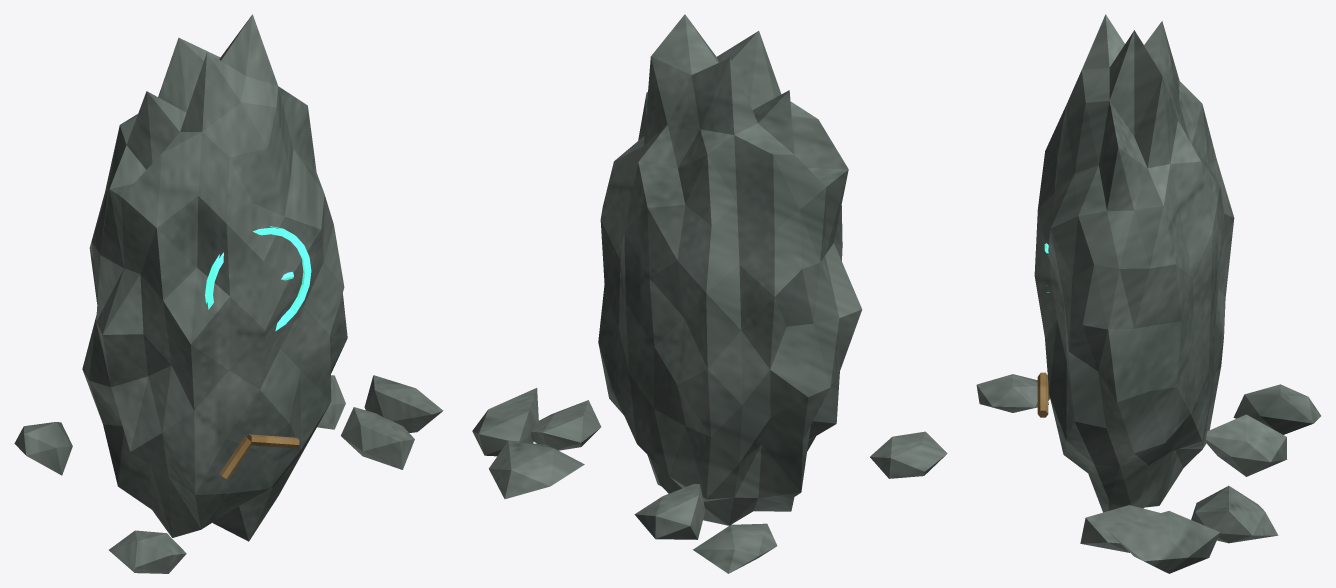
File: 0661_waystone_11.glb
3 renders of one model, left to right at view 1: azimuth 30°, elevation 25°; view 2: azimuth 150°, elevation 25°; view 3: azimuth 270°, elevation 25°, orthographic. The views are drawn at different scales.
Parts seen in each view (by area): view 1: stone, glow, brass; view 2: stone; view 3: stone, brass.
Part boxes in pixels (x1=…): stone: x1=14, y1=14, x2=443, y2=573; glow: x1=205, y1=226, x2=311, y2=331; brass: x1=219, y1=434, x2=299, y2=479; stone: x1=472, y1=14, x2=947, y2=573; stone: x1=976, y1=14, x2=1320, y2=573; brass: x1=1037, y1=372, x2=1049, y2=417.
Size of the model in its own units: 1.64 by 2.06 by 1.29.
Materials: 3 (3 with a texture image).
